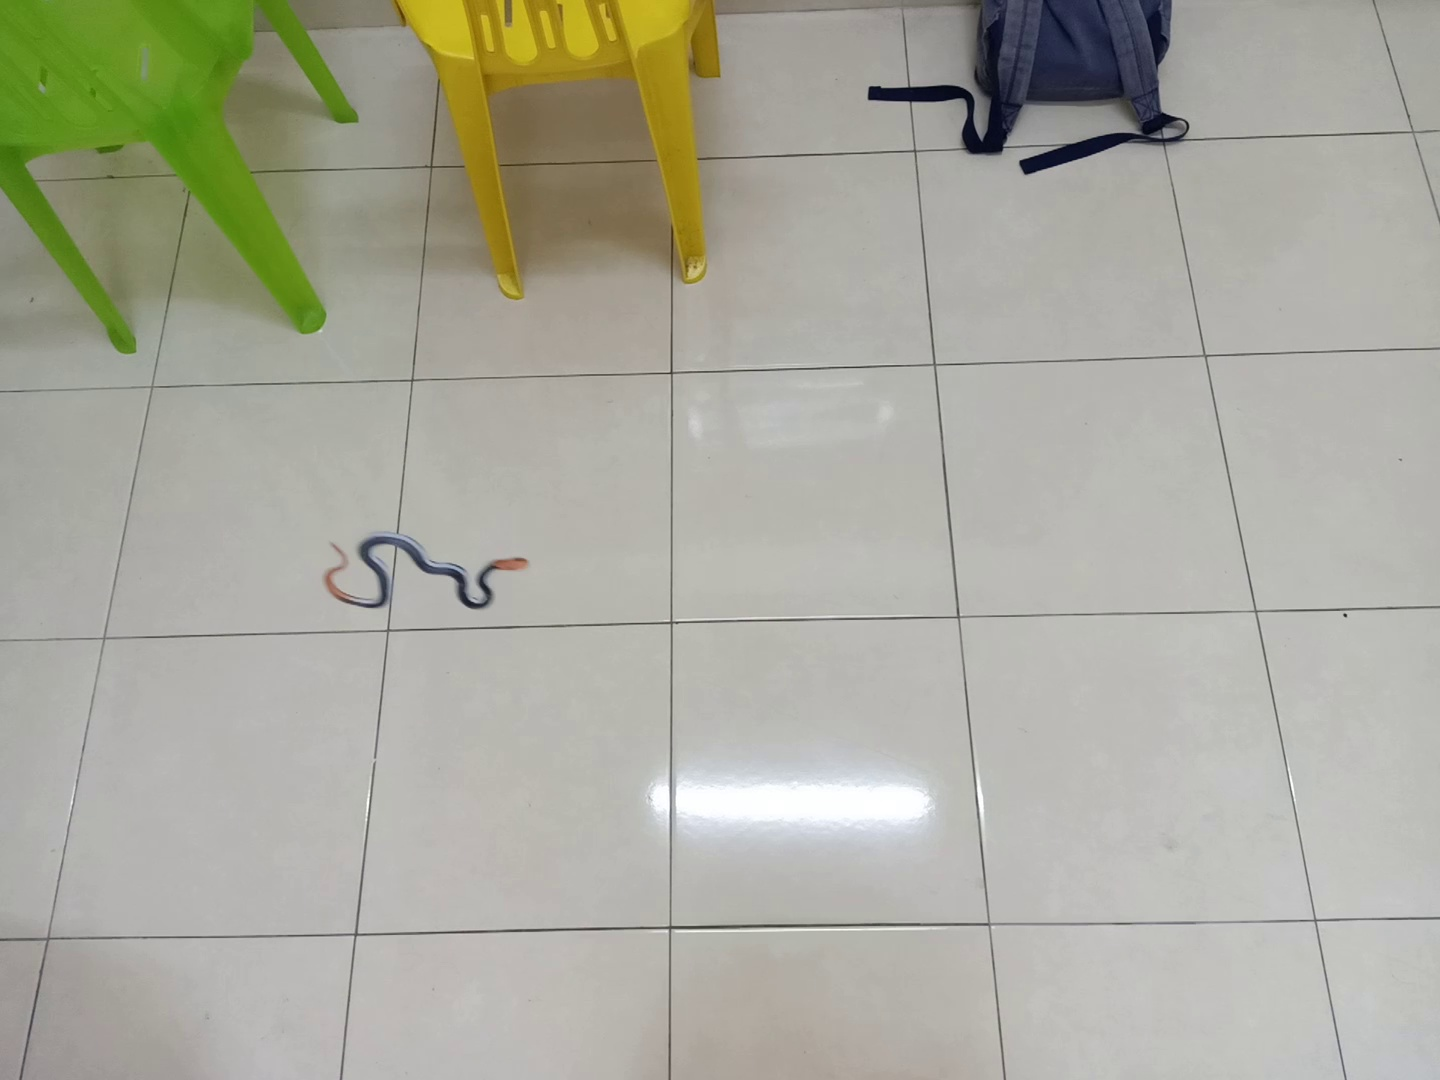snake: (319, 521, 540, 619)
